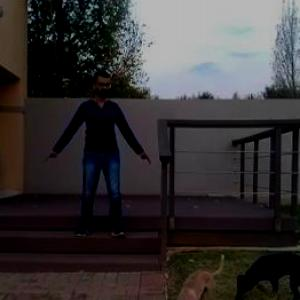land: (52, 74, 146, 250)
